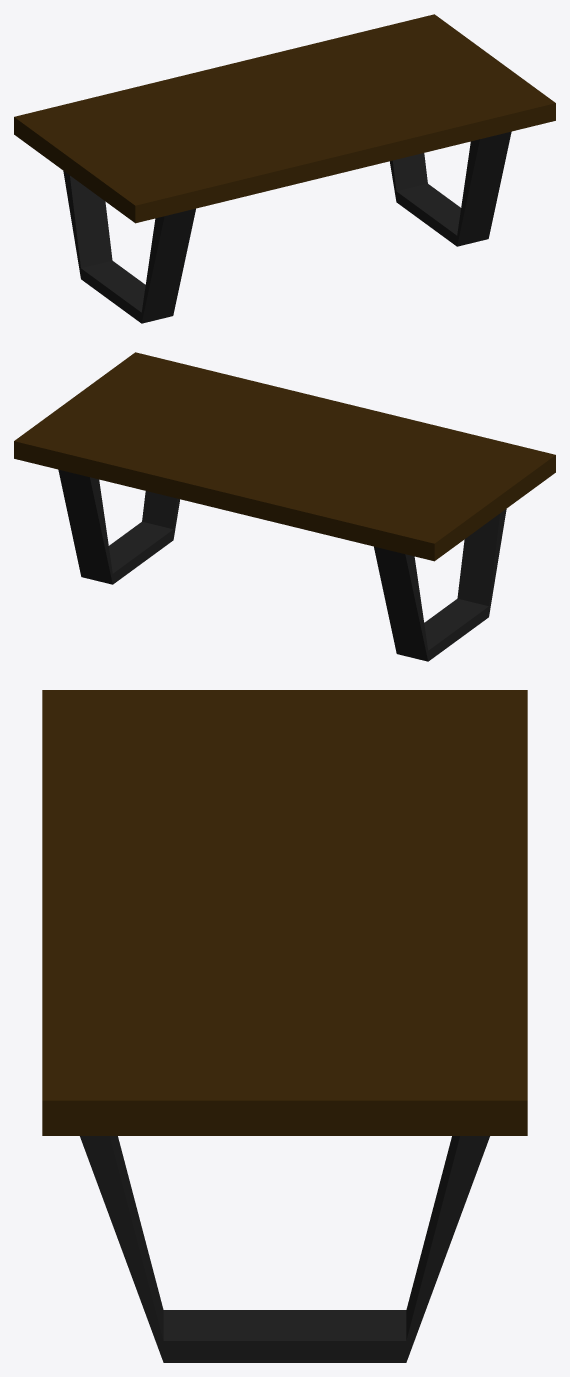
The model's file is table.glb.
3 views of the same model, one above another, from view 1: azimuth 30°, elevation 25°; view 2: azimuth 150°, elevation 25°; view 3: azimuth 270°, elevation 25° (orthographic). The views are drawn at different scales.
Parts seen in each view (by area): view 1: table; view 2: table; view 3: table.
Boxes of the visible parts, bbox=[...] form: table: bbox=[14, 14, 555, 323]; table: bbox=[14, 352, 555, 661]; table: bbox=[42, 690, 527, 1362].
Size of the model in its own units: 8 by 2.71 by 4.
